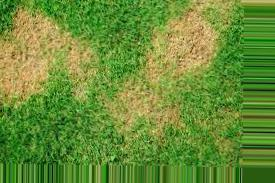patch: (106, 86, 170, 117), (11, 56, 61, 87), (173, 11, 211, 44), (26, 25, 70, 46), (150, 52, 183, 76), (68, 52, 91, 71), (124, 125, 153, 136), (11, 90, 34, 103), (152, 33, 166, 46), (192, 53, 205, 66), (132, 69, 140, 79)
